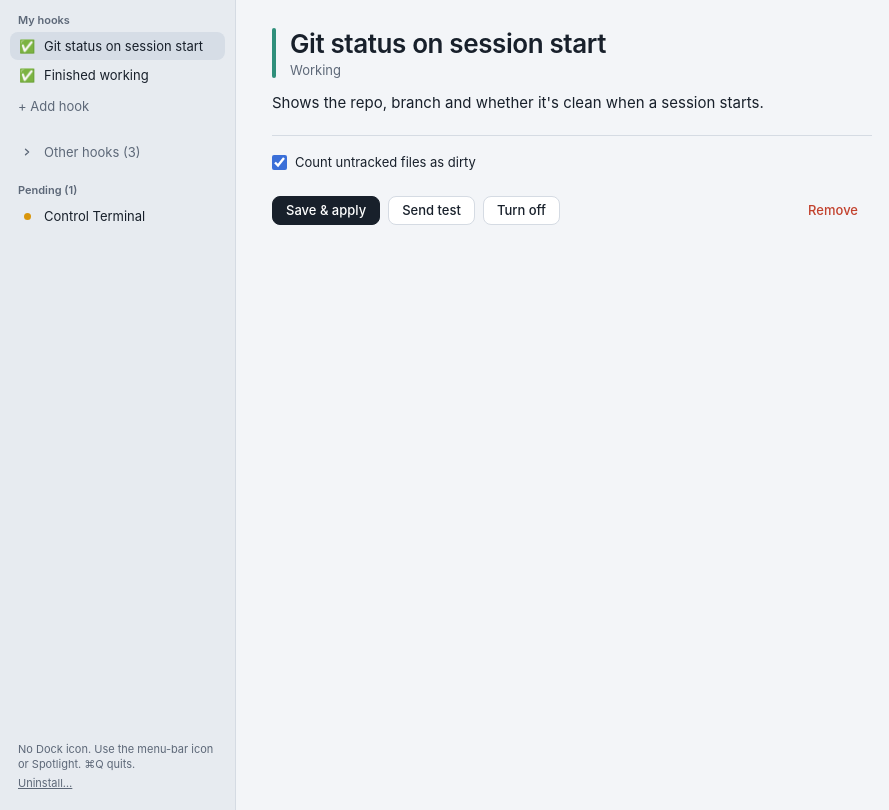
App › sidebar_lists_only_own_hooks
expect the text "Git status on session start" is shown: met, box [44,38,217,54]
expect the text "Finished working" is shown: met, box [44,67,149,83]
Step 1. Click the button "Other hooks (3)" → (118, 152), box [10,138,225,166]
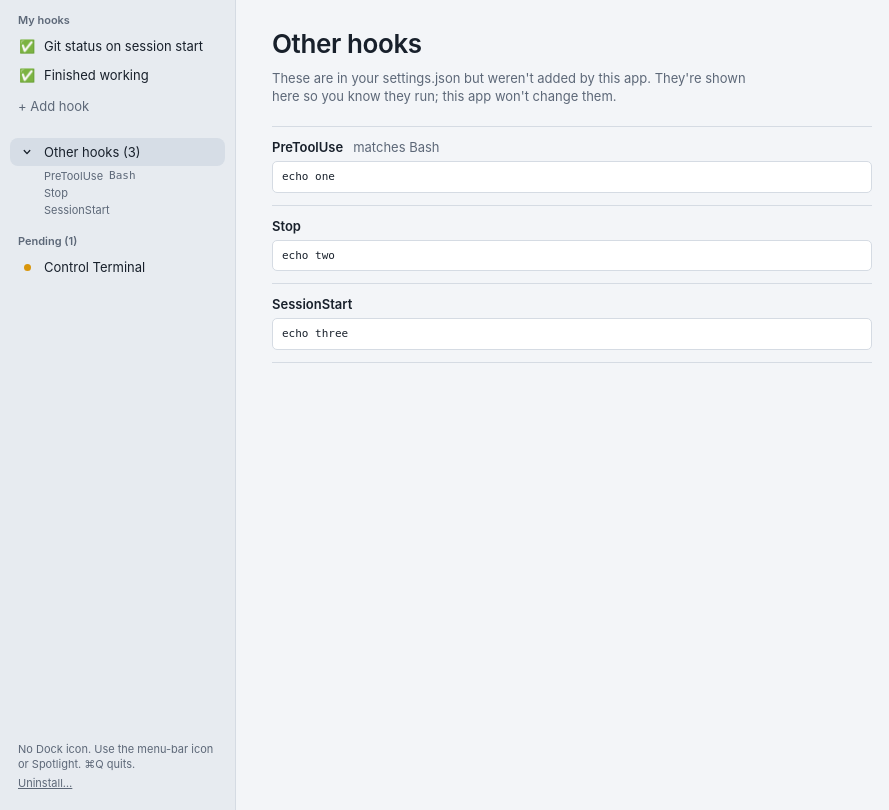
expect the button "Other hooks (3)" is expanded: met, box [10,138,225,166]
expect the text "echo one" is shown: met, box [272,161,872,192]
expect the text "echo three" is shown: met, box [272,318,872,350]
